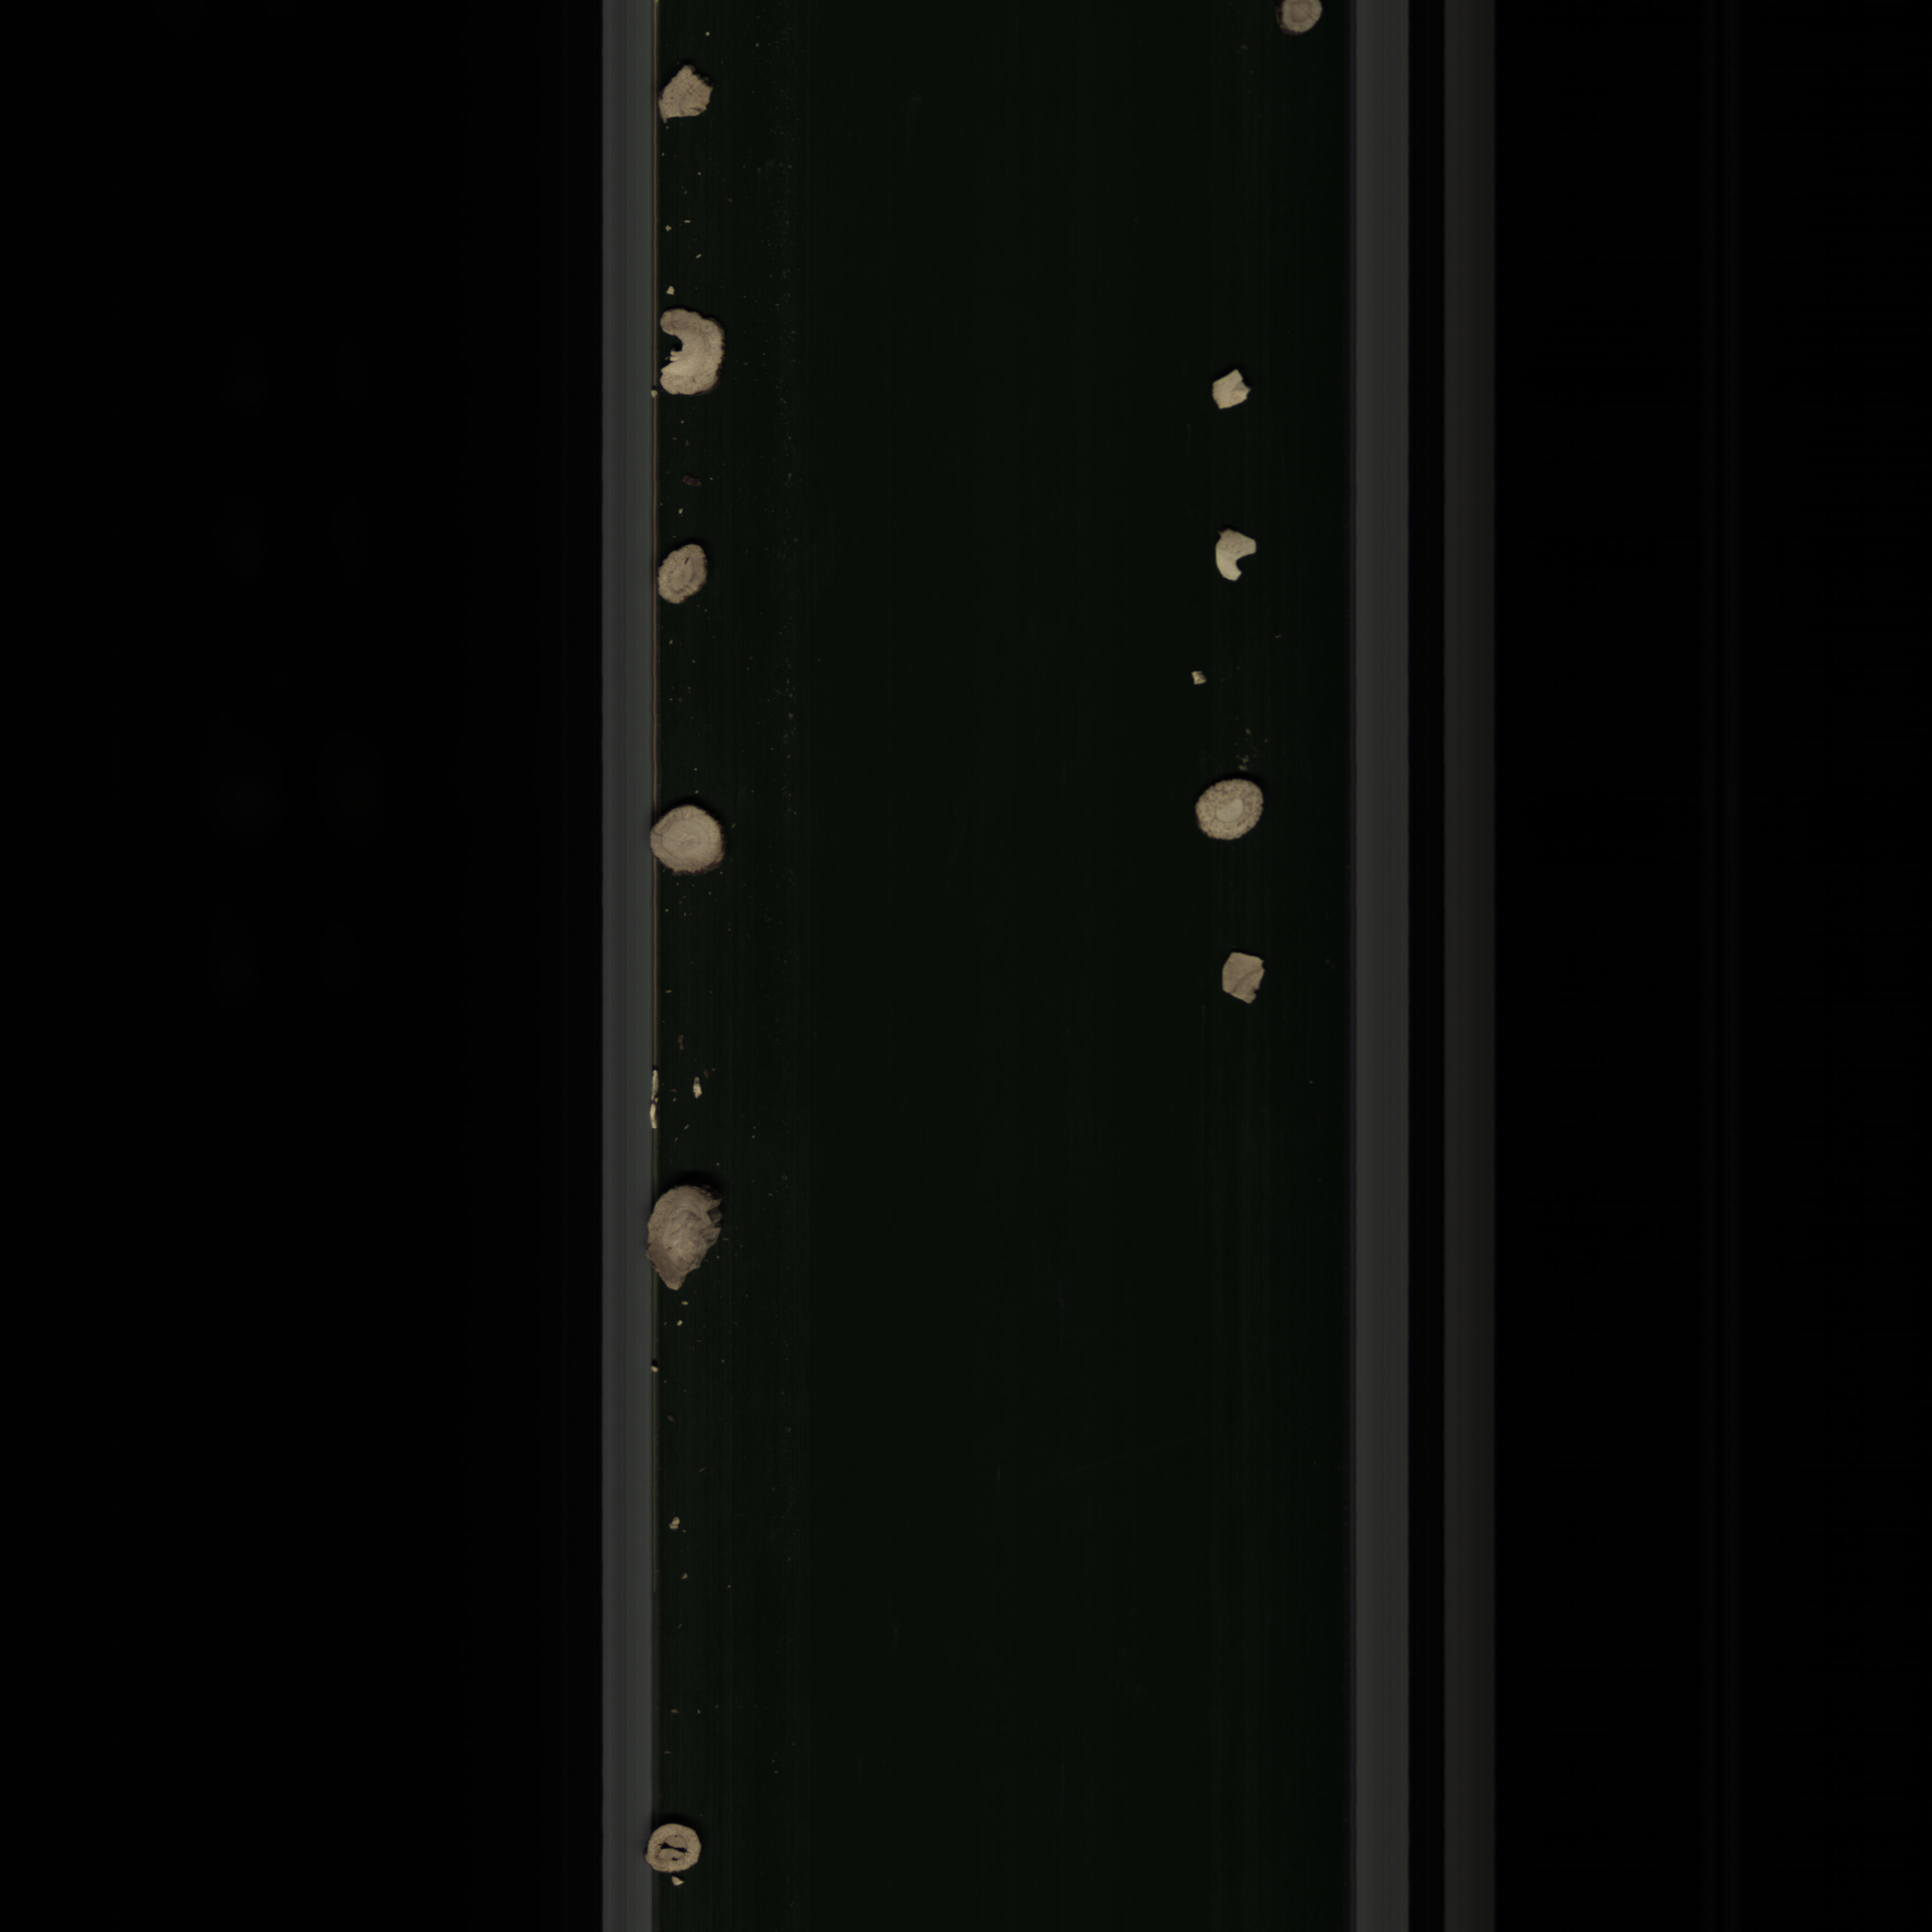debris: (656, 287, 731, 405), (656, 65, 731, 126), (1200, 352, 1261, 418), (1217, 941, 1277, 1007), (1203, 522, 1261, 582)
hole: (646, 1819, 709, 1879)
moldy: (644, 1178, 727, 1306)
